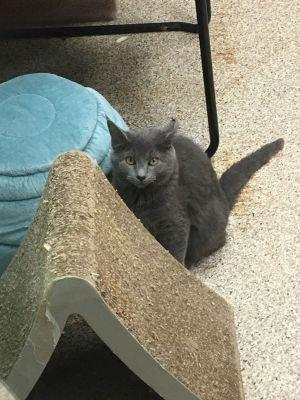rblue: (102, 112, 185, 197)
